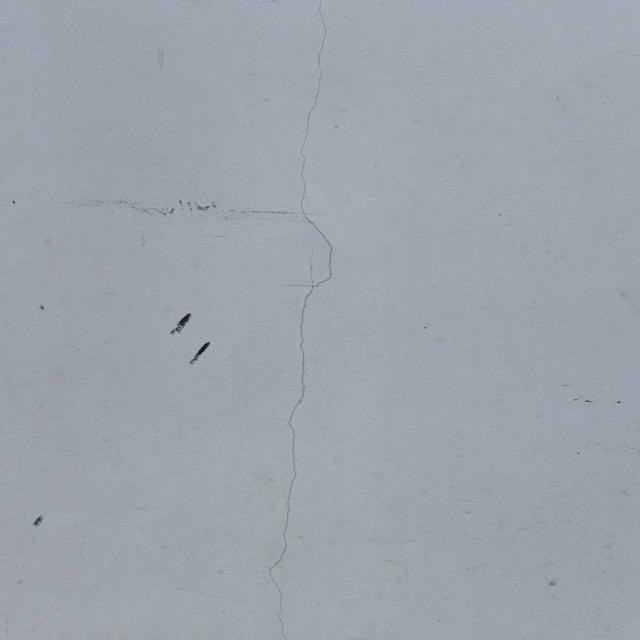crack: (256, 7, 353, 632)
